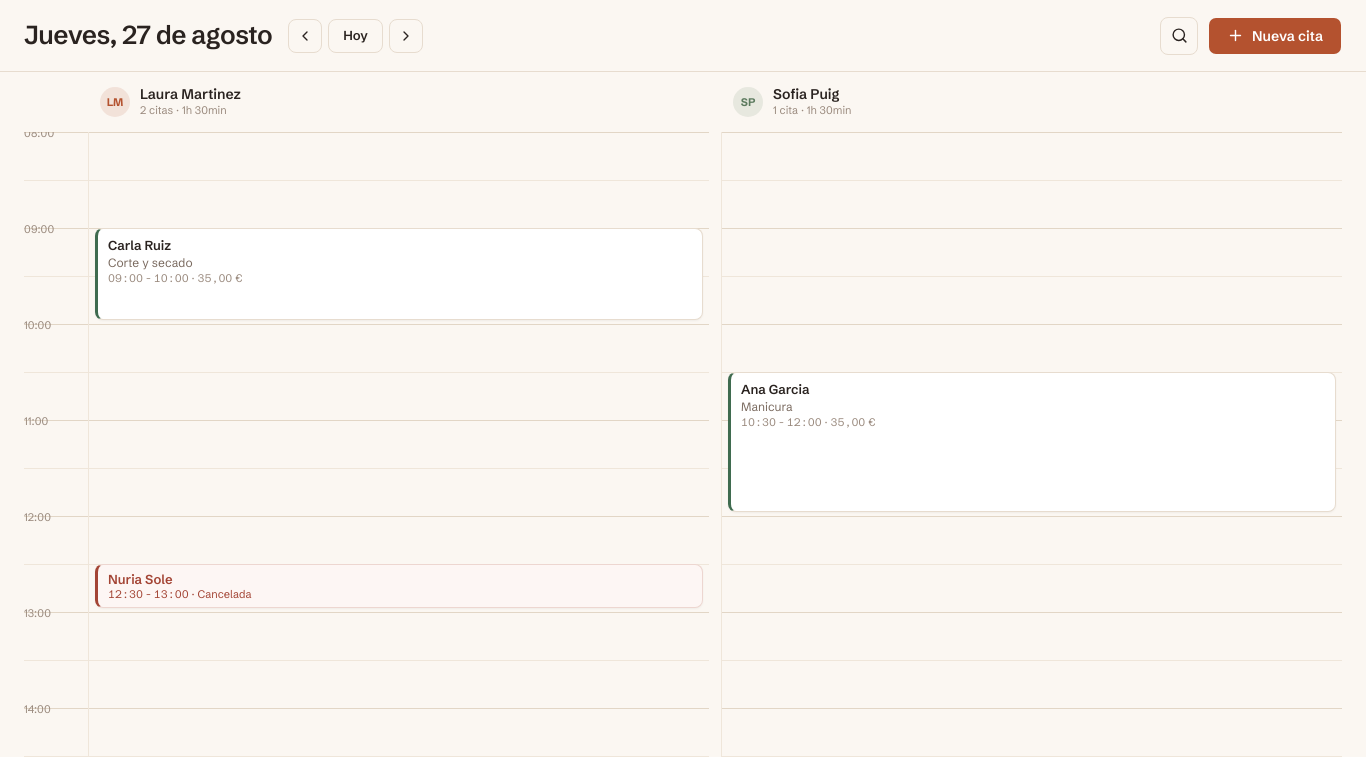
Test: CalendarPage › Hallazgo 1 (Dia siguiente): si la cita tambien existe manana, el panel no reaparece solo
The image size is (1366, 757).
Click the text "Ana Garcia".
click(775, 389)  # box [741,381,810,397]
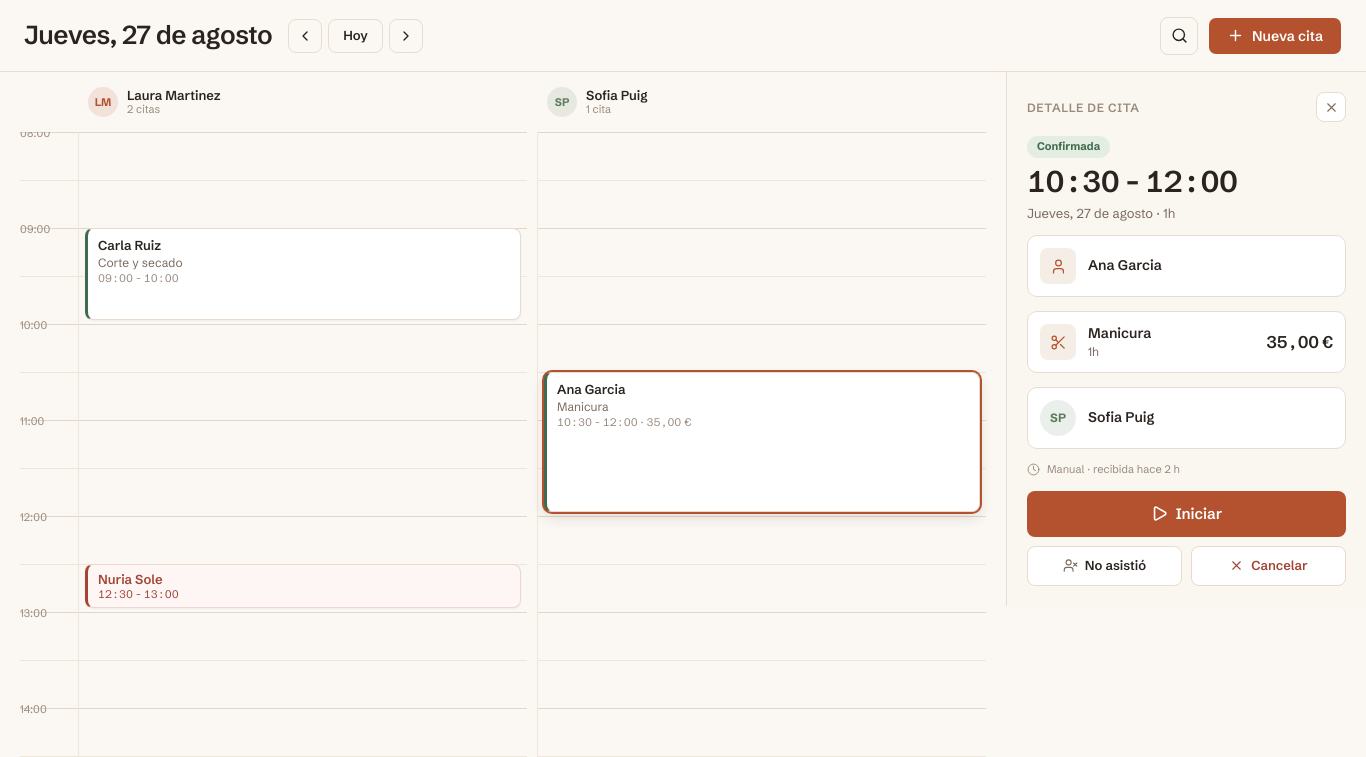
Expected: the element with test id "appointment-detail-panel" is shown, [1006,72,1365,606]
Click the button named "Dia siguiente".
click(406, 36)  # box [389,18,423,52]
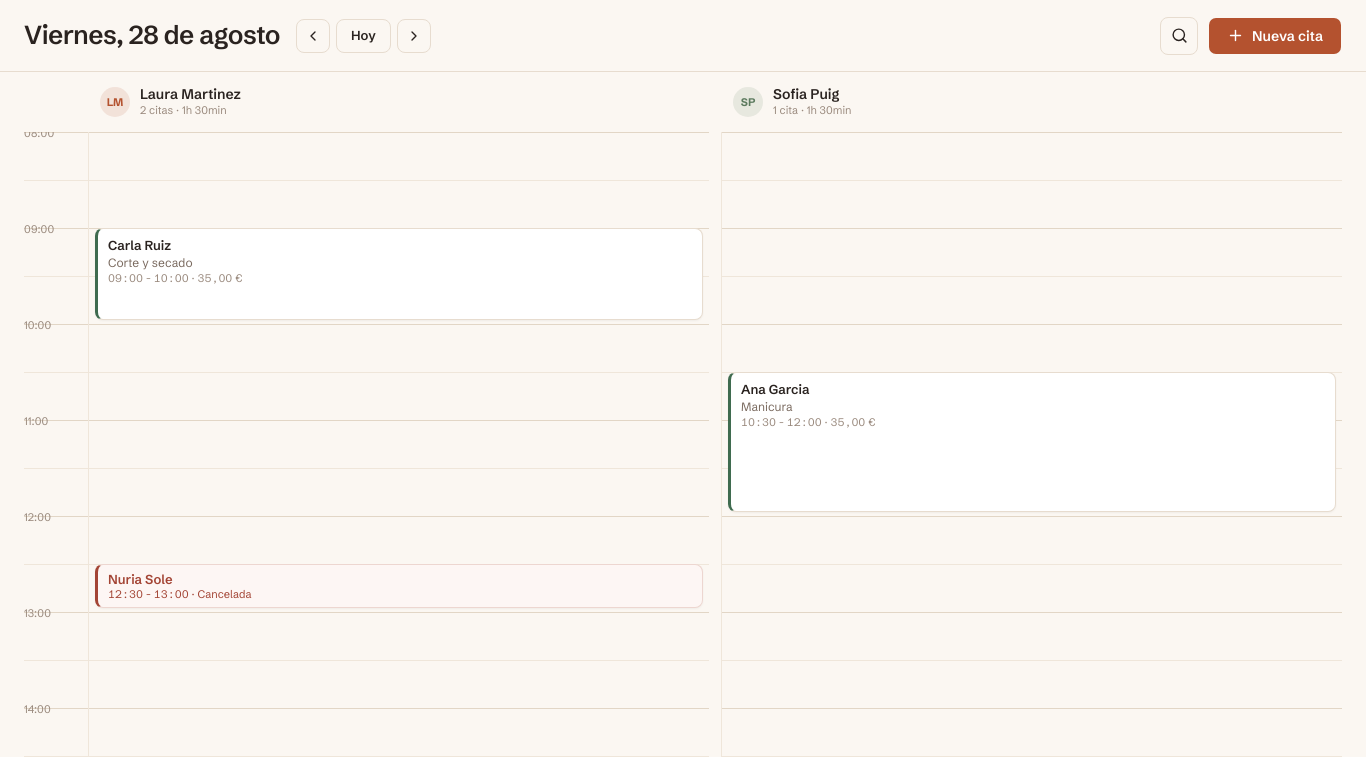
Expected: the heading reads "Viernes, 28 de agosto", [24,19,280,51]
Expected: the element with test id "appointment-detail-panel" is gone
